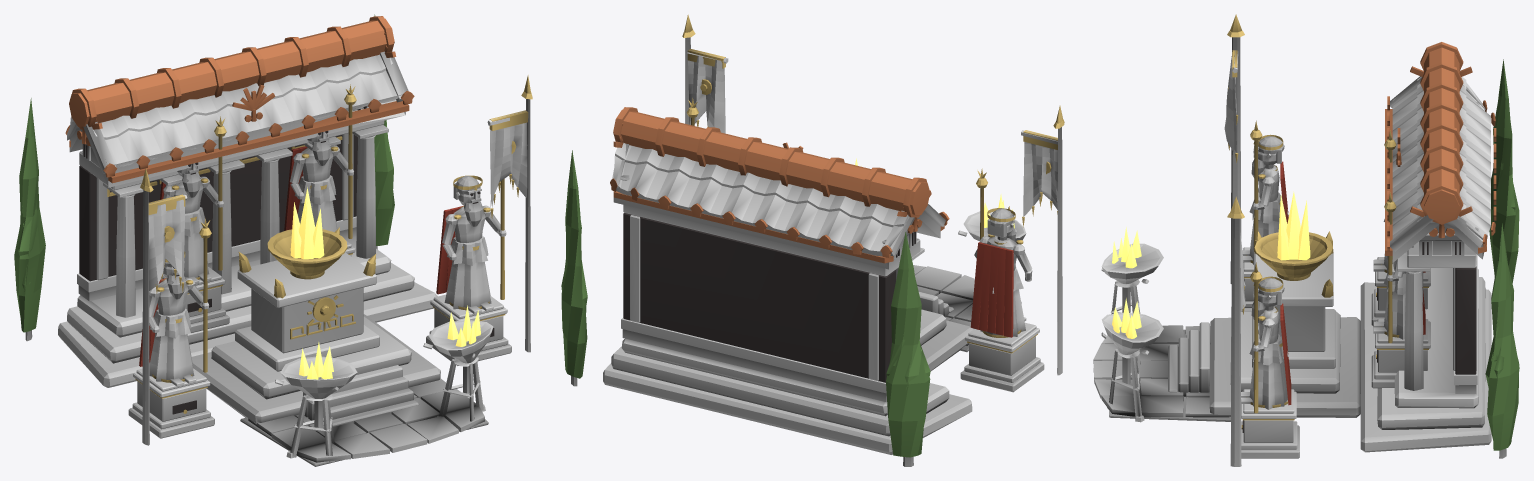
The model's file is altar-of-kings-l2.glb.
3 renders of one model, left to right at view 1: azimuth 30°, elevation 25°; view 2: azimuth 150°, elevation 25°; view 3: azimuth 270°, elevation 25°, orthographic. The views are drawn at different scales.
Parts seen in each view (by area): view 1: altar-of-kings-l2; view 2: altar-of-kings-l2; view 3: altar-of-kings-l2.
Boxes of the visible parts, box(x1,y1,x2,y2) form: altar-of-kings-l2: box(14, 14, 532, 466); altar-of-kings-l2: box(561, 14, 1064, 466); altar-of-kings-l2: box(1093, 14, 1519, 466).
Bounding box in the file's own units: 1.41 × 0.964 × 1.37.
